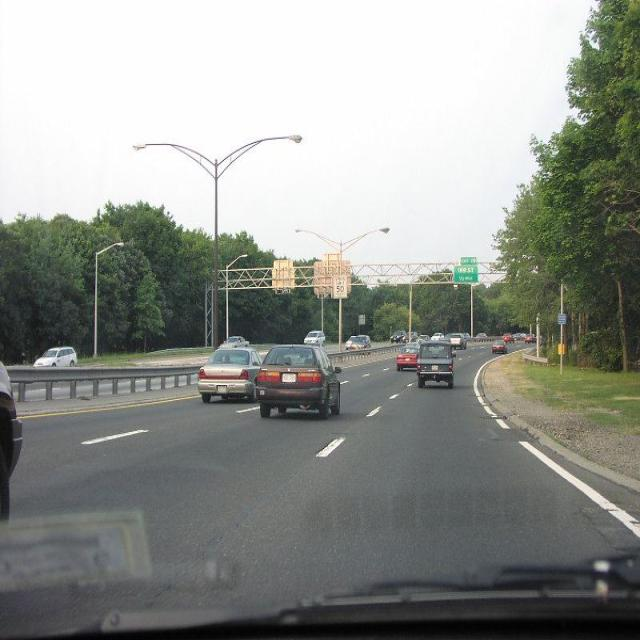Electric pole: (133, 134, 302, 346), (93, 242, 123, 358)
